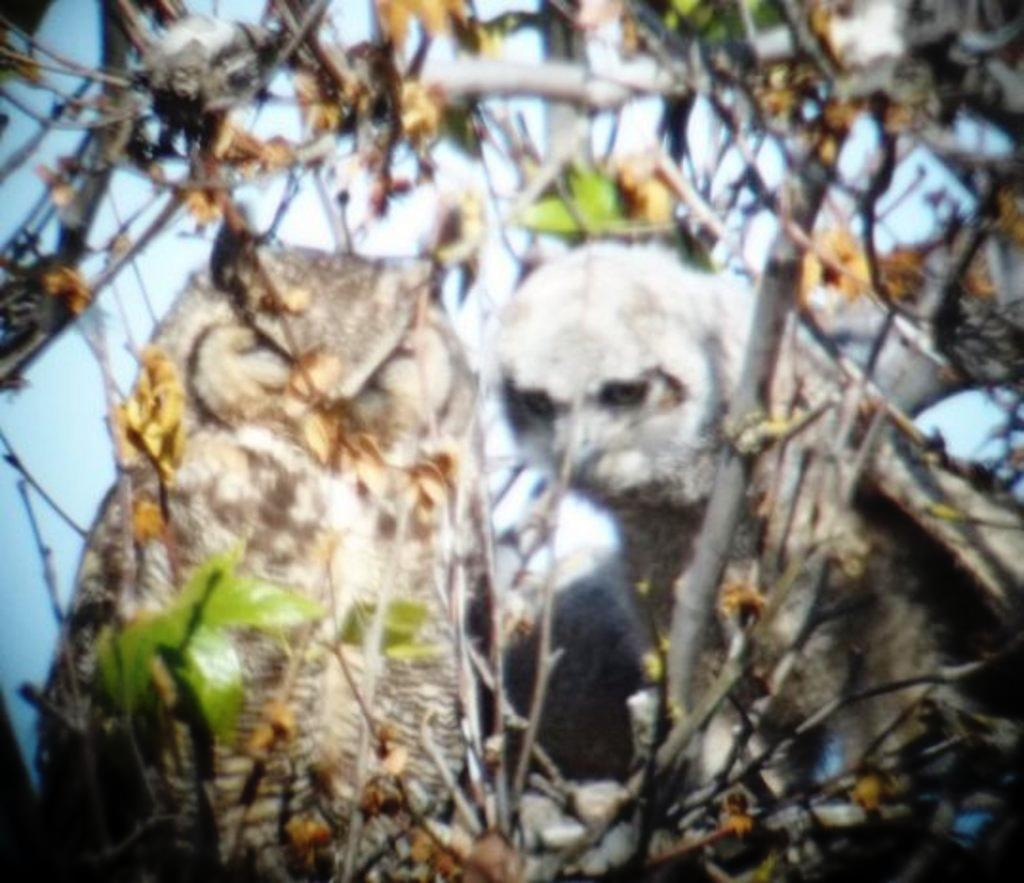Owl: (40, 217, 474, 881)
